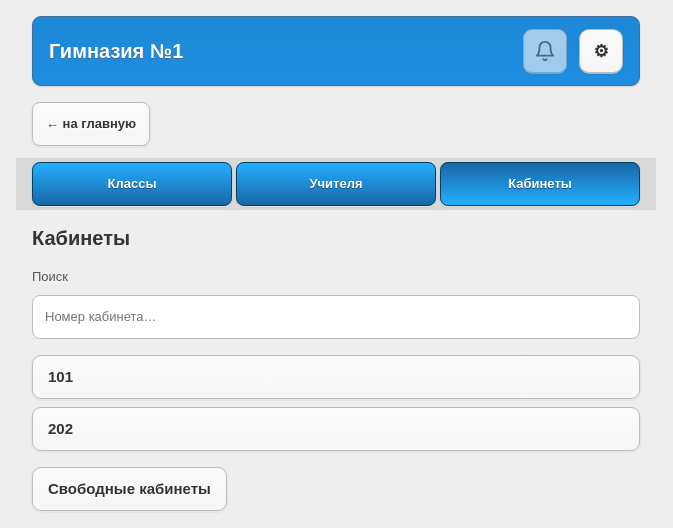
App shell › opens the free-rooms screen from the «Кабинеты» list
Click the button "Свободные кабинеты" at (129,488), box left=32, top=466, right=227, bottom=510
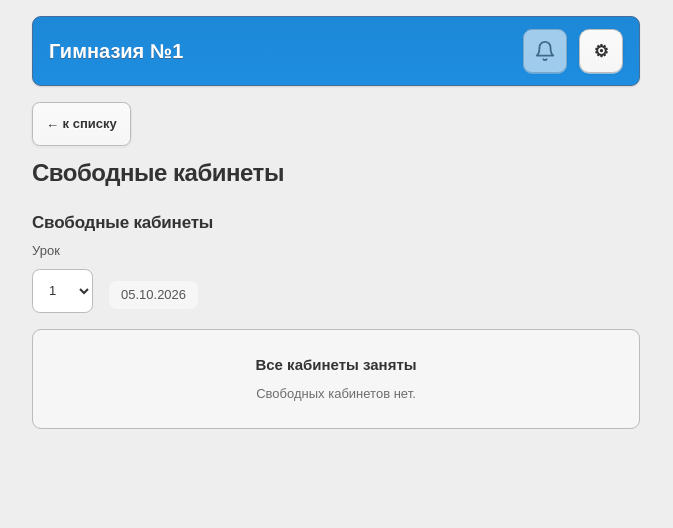
Now the dropdown labelled "Урок" is shown, box left=32, top=269, right=93, bottom=313
